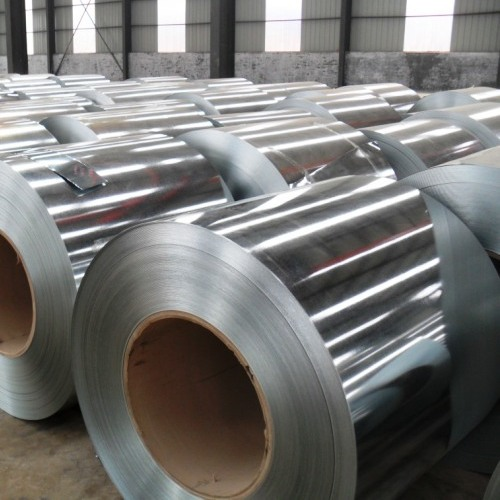steel-coil: (9, 61, 497, 425), (139, 98, 441, 373)
